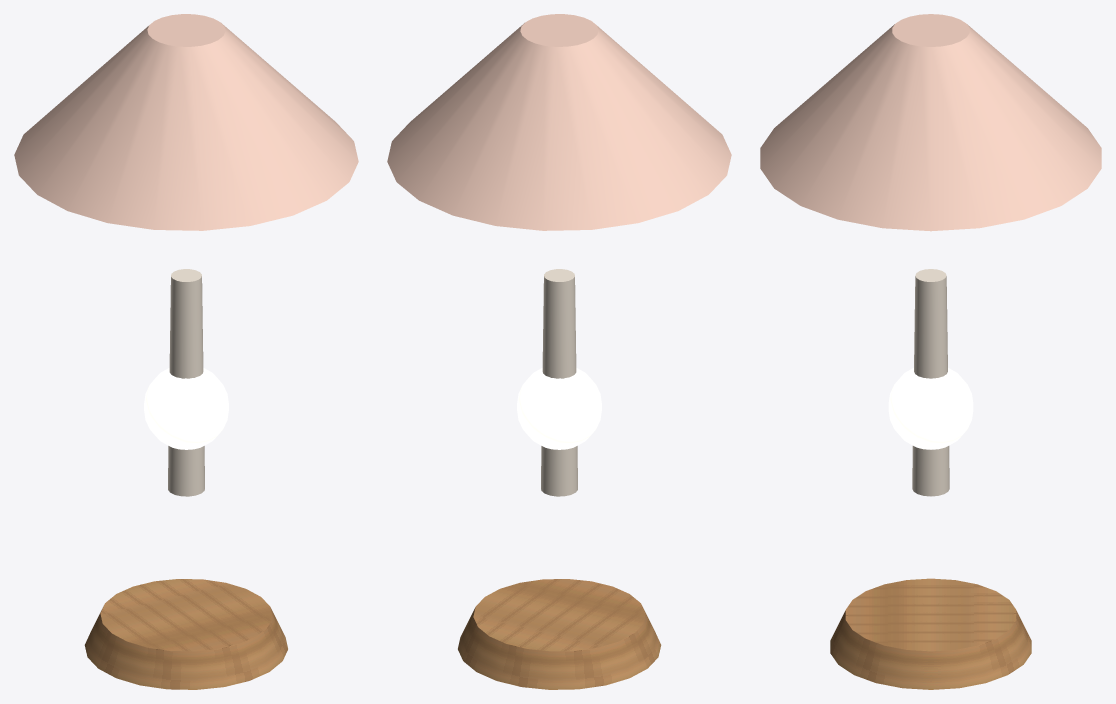
Rendered from d_lamp.glb.
3 views of the same model, side by side, from view 1: azimuth 30°, elevation 25°; view 2: azimuth 150°, elevation 25°; view 3: azimuth 270°, elevation 25° (orthographic).
Parts seen in each view (by area): view 1: d_lamp; view 2: d_lamp; view 3: d_lamp.
Boxes of the visible parts, left/top/right/bottom form: d_lamp: left=14, top=14, right=358, bottom=689; d_lamp: left=387, top=14, right=731, bottom=689; d_lamp: left=760, top=14, right=1101, bottom=689.
Bounding box in the file's own units: 0.44 × 0.868 × 0.4355.
4 materials, 1 textured.
